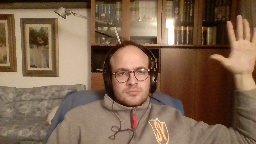Mano_aperta: (207, 13, 256, 75)
